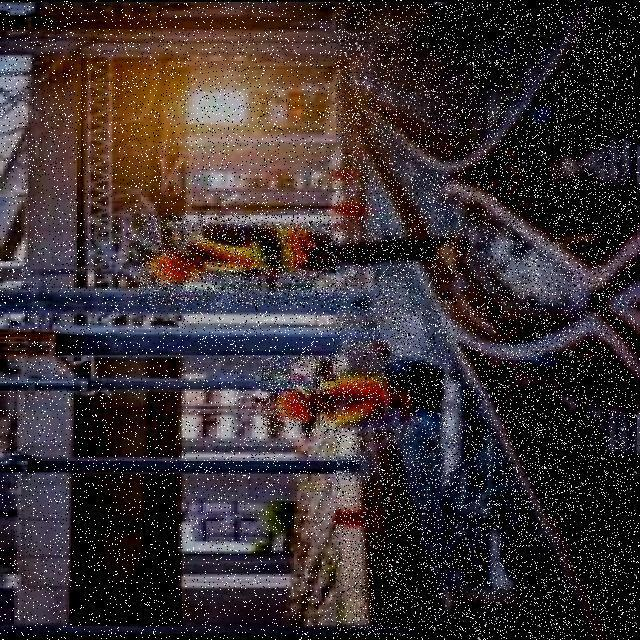danger: (139, 216, 472, 306), (262, 356, 441, 435)
rail: (337, 4, 636, 639)
